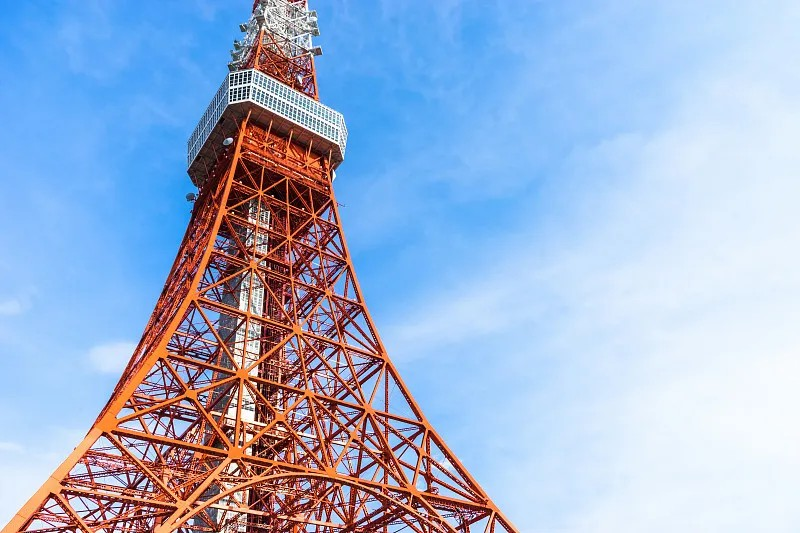Tokyo: (1, 1, 522, 532)
